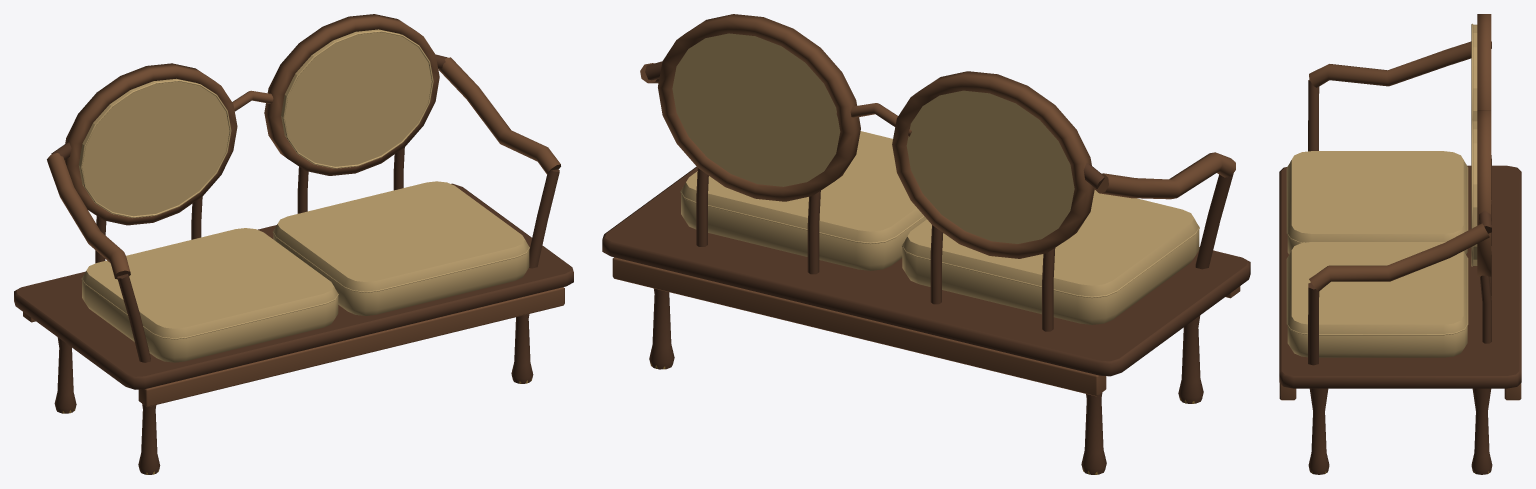
The model's file is rpg-mansion-open-salon-settee-01.glb.
3 views of the same model, side by side, from view 1: azimuth 30°, elevation 25°; view 2: azimuth 150°, elevation 25°; view 3: azimuth 270°, elevation 25° (orthographic). The views are drawn at different scales.
Parts seen in each view (by area): view 1: rpg-mansion-open-salon-settee-01; view 2: rpg-mansion-open-salon-settee-01; view 3: rpg-mansion-open-salon-settee-01.
Part boxes in pixels (x1,y1,x2,y2): rpg-mansion-open-salon-settee-01: (14, 14, 573, 474); rpg-mansion-open-salon-settee-01: (602, 14, 1250, 474); rpg-mansion-open-salon-settee-01: (1279, 14, 1521, 474).
Size of the model in its own units: 1.45 by 0.99 by 0.7.
